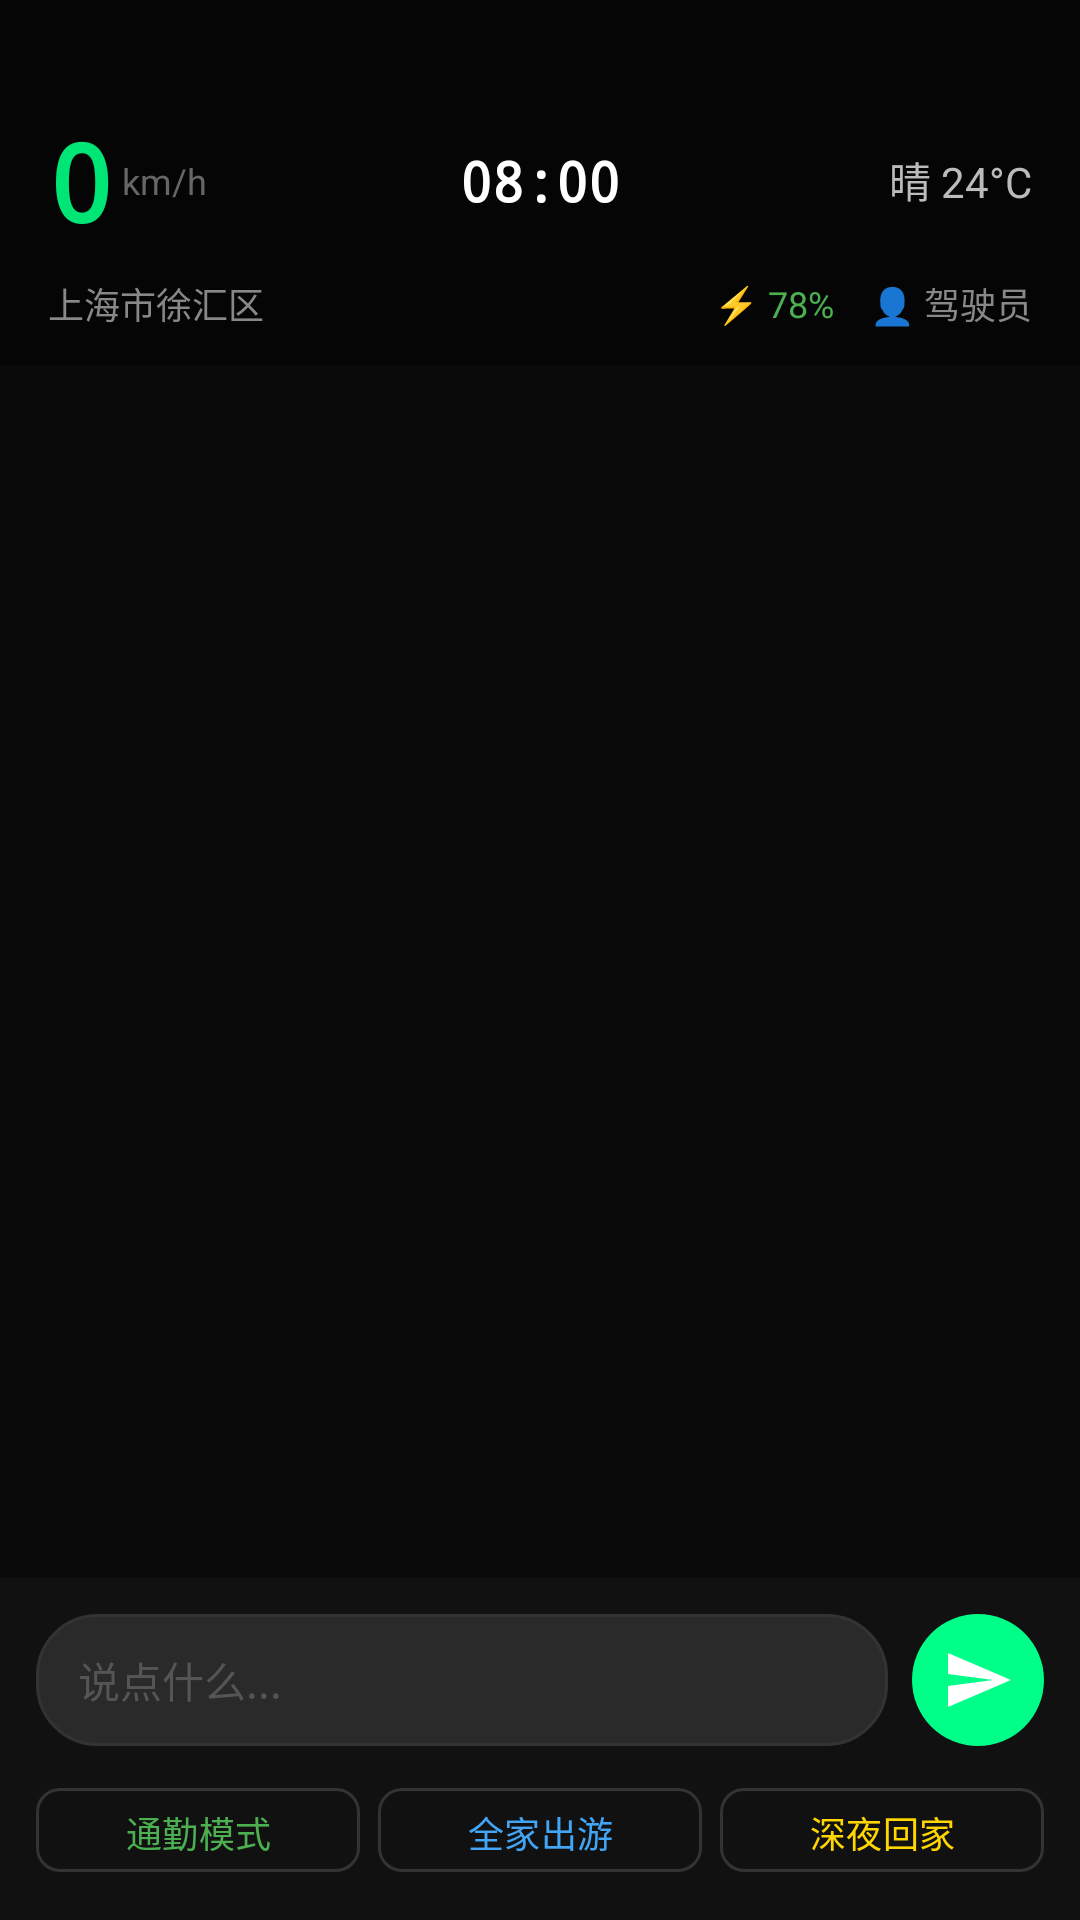

Where to tap for icons on this 1080×1920 app screen, as (x=x, y=y):
Send: (x=978, y=1680)
